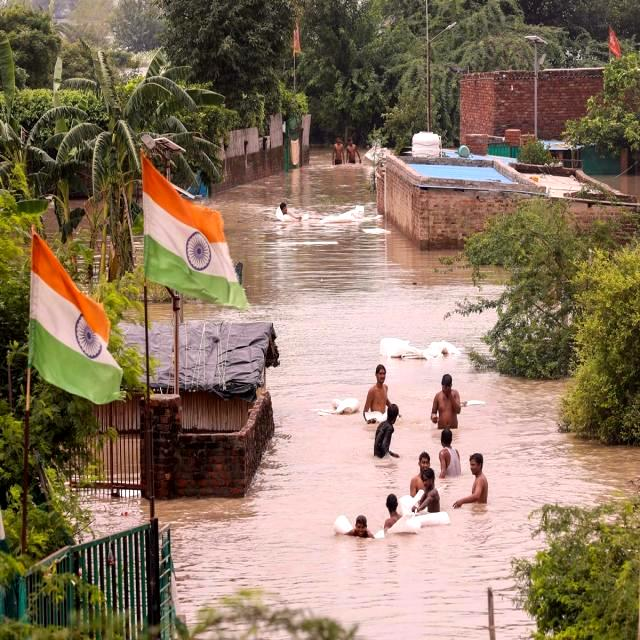civilian: (408, 446, 455, 526), (422, 370, 473, 440), (453, 452, 499, 516), (422, 423, 468, 483), (370, 401, 412, 461), (358, 361, 396, 419), (412, 470, 449, 518), (373, 492, 406, 534), (337, 508, 379, 540)
